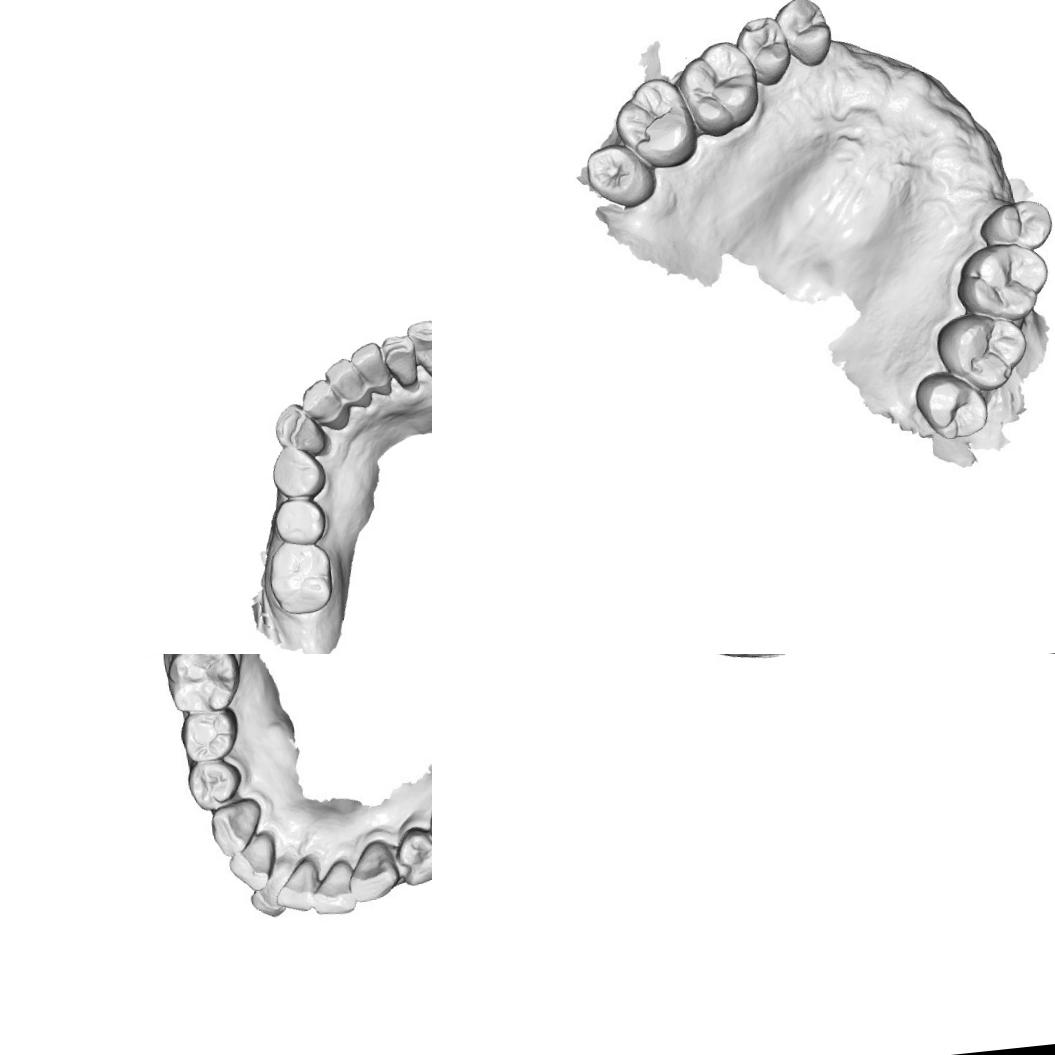canine: (271, 400, 329, 459), (210, 798, 267, 858), (346, 837, 400, 897), (403, 314, 432, 383)
incisor: (244, 861, 300, 922), (296, 376, 350, 432), (346, 338, 394, 398), (319, 354, 372, 408), (376, 332, 424, 390), (314, 863, 359, 918), (282, 857, 322, 915), (230, 834, 276, 881)
molar: (674, 38, 763, 140), (951, 238, 1054, 326), (610, 74, 701, 173), (933, 308, 1031, 396), (912, 367, 991, 442), (264, 537, 336, 618), (584, 139, 658, 212), (167, 654, 239, 713)
premolar: (976, 197, 1055, 255), (733, 14, 794, 89), (772, 0, 835, 70), (269, 444, 328, 504), (184, 753, 240, 808), (273, 494, 324, 552), (181, 710, 230, 757), (398, 827, 432, 884)
